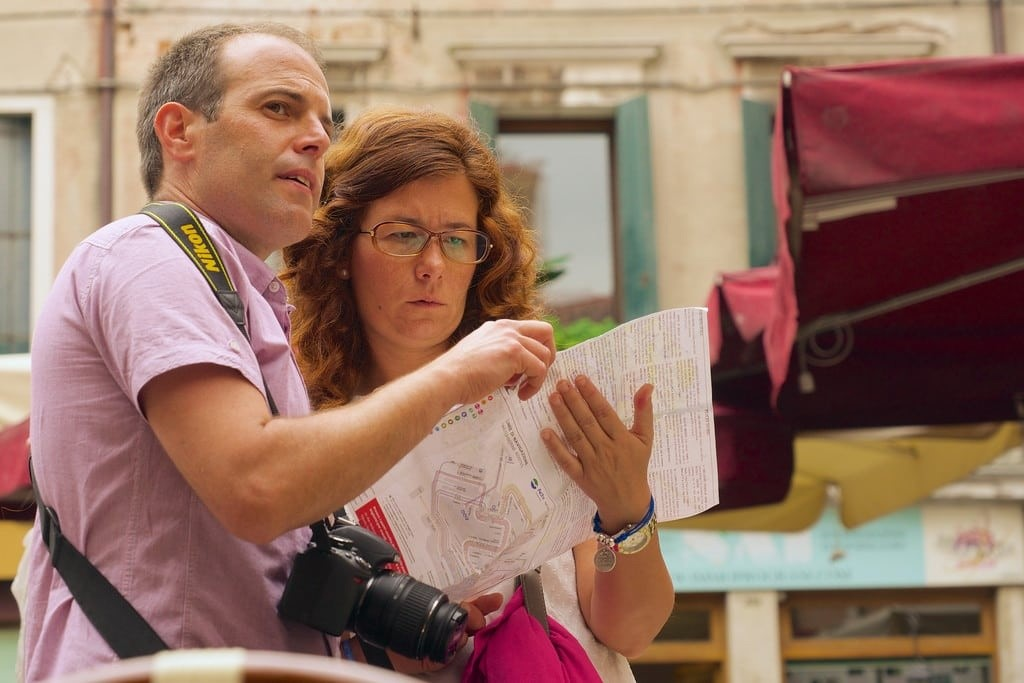face_no_mask: (137, 21, 331, 247), (345, 149, 479, 355)
